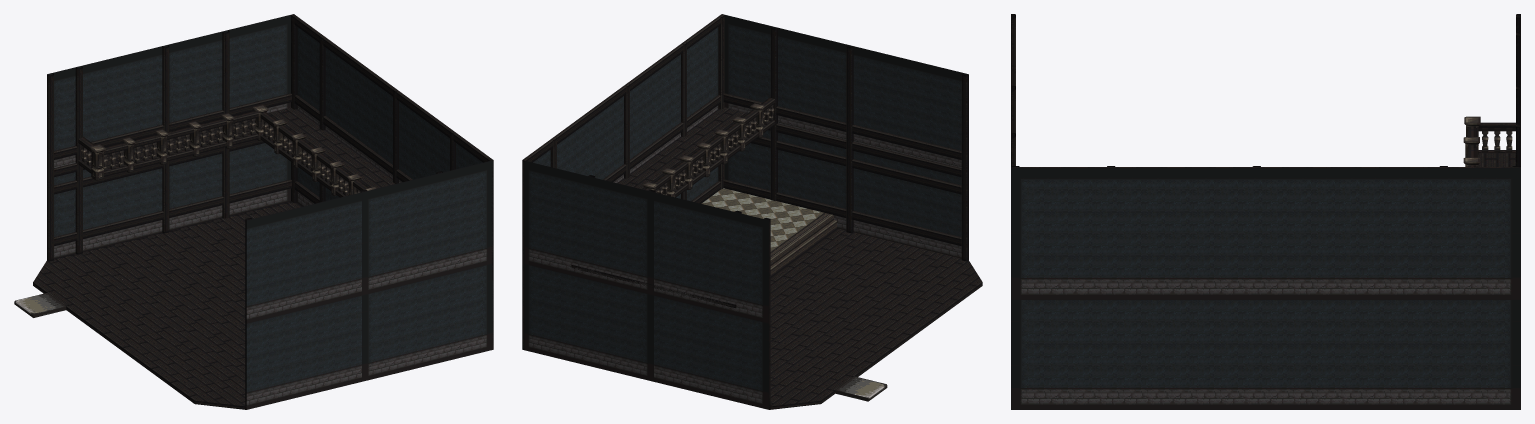
File: EnvBdgMD_City_B_Indoor_Theater_A.FBX
3 renders of one model, left to right at view 1: azimuth 30°, elevation 25°; view 2: azimuth 150°, elevation 25°; view 3: azimuth 270°, elevation 25°, orthographic. The views are drawn at different scales.
Parts seen in each view (by area): view 1: EnvBdgMD_City_B_Indoor_Theater_A; view 2: EnvBdgMD_City_B_Indoor_Theater_A; view 3: EnvBdgMD_City_B_Indoor_Theater_A.
Part boxes in pixels (x1,y1,x2,y2): EnvBdgMD_City_B_Indoor_Theater_A: [14, 14, 493, 409]; EnvBdgMD_City_B_Indoor_Theater_A: [522, 14, 982, 409]; EnvBdgMD_City_B_Indoor_Theater_A: [1011, 14, 1520, 409].
Bounding box in the file's own units: 1900 × 1100 × 2100.
